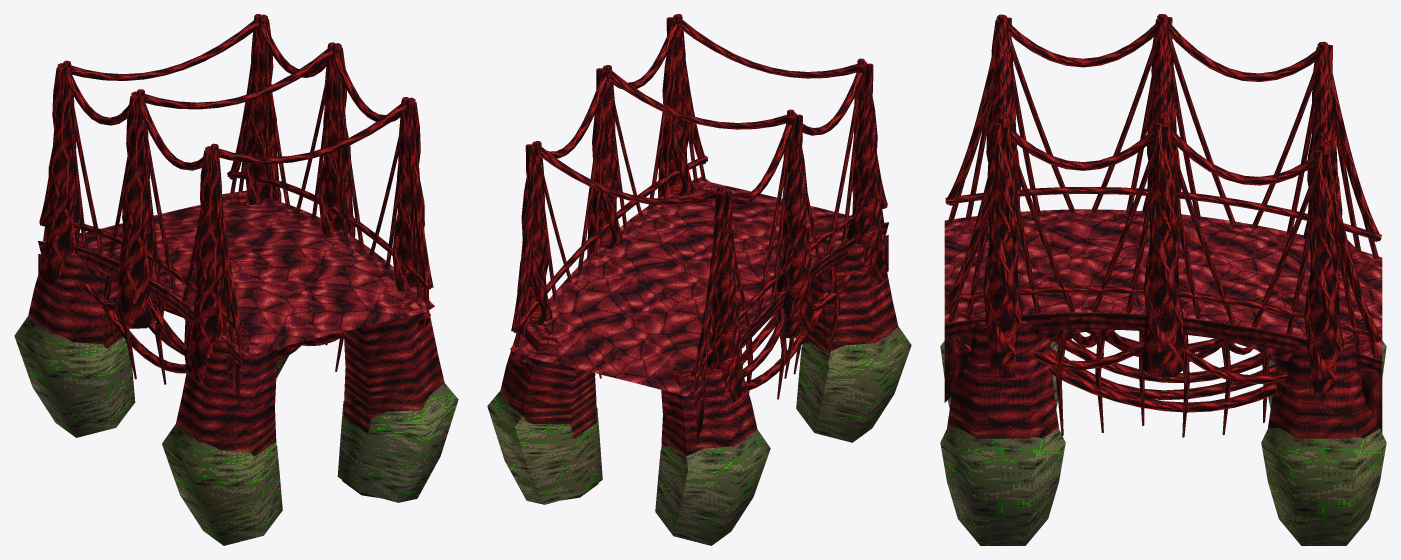
The model's file is Bridge_VeinTendon_Grand.glb.
3 views of the same model, side by side, from view 1: azimuth 30°, elevation 25°; view 2: azimuth 150°, elevation 25°; view 3: azimuth 270°, elevation 25° (orthographic). The views are drawn at different scales.
Visible parts, largest first — view 1: VeinBridge_PylonsAndCables, VeinBridge_ArchSkirt_Calcified, VeinBridge_ArchBody, VeinBridge_Deck, VeinBridge_HangingTendons; view 2: VeinBridge_PylonsAndCables, VeinBridge_Deck, VeinBridge_ArchSkirt_Calcified, VeinBridge_ArchBody, VeinBridge_HangingTendons; view 3: VeinBridge_PylonsAndCables, VeinBridge_Deck, VeinBridge_ArchBody, VeinBridge_ArchSkirt_Calcified, VeinBridge_HangingTendons.
Part boxes in pixels (x1,y1,x2,y2): VeinBridge_PylonsAndCables: (39, 14, 433, 383); VeinBridge_ArchSkirt_Calcified: (14, 316, 458, 545); VeinBridge_ArchBody: (28, 190, 444, 498); VeinBridge_Deck: (76, 198, 434, 355); VeinBridge_HangingTendons: (42, 253, 430, 384); VeinBridge_PylonsAndCables: (511, 14, 887, 403); VeinBridge_Deck: (510, 176, 887, 396); VeinBridge_ArchSkirt_Calcified: (487, 326, 911, 545); VeinBridge_ArchBody: (500, 184, 898, 500); VeinBridge_HangingTendons: (514, 234, 885, 407); VeinBridge_PylonsAndCables: (945, 14, 1381, 392); VeinBridge_Deck: (944, 209, 1382, 361); VeinBridge_ArchBody: (944, 221, 1382, 438); VeinBridge_ArchSkirt_Calcified: (940, 341, 1386, 545); VeinBridge_HangingTendons: (949, 329, 1376, 437).
Bounding box in the file's own units: 11.53 × 16.19 × 15.3.
4 materials, 4 textured.
